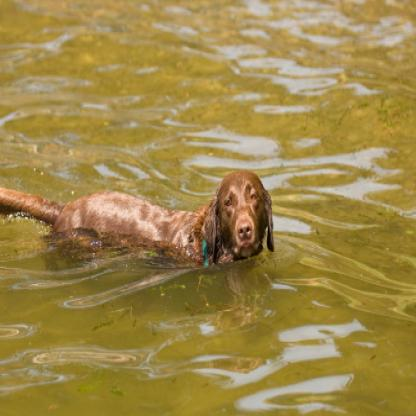Labarador Retriever: (0, 172, 282, 270)
